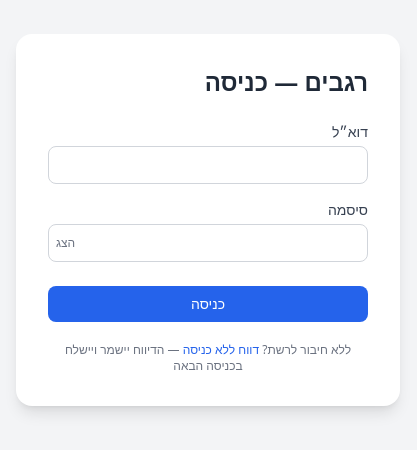
Test: LoginPage › shows error message on login failure
Type "a@b.com" into the field labelled "דוא״ל" at (208, 165), box [48,146,368,184]
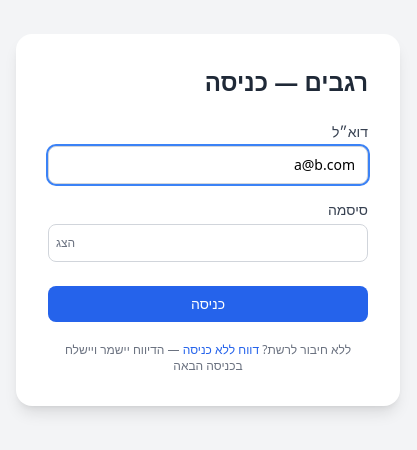
Type "wrong" into the password field labelled "סיסמה" at (208, 243), box [48,224,368,262]
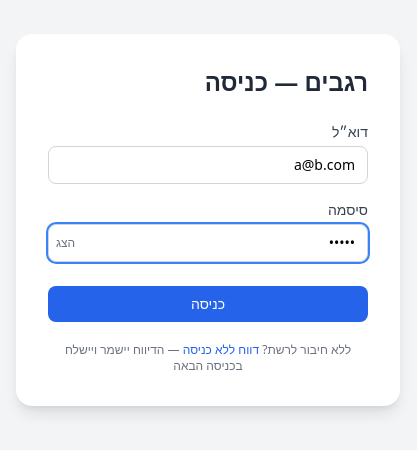
Click the button "כניסה" at (208, 304), box [48,286,368,322]
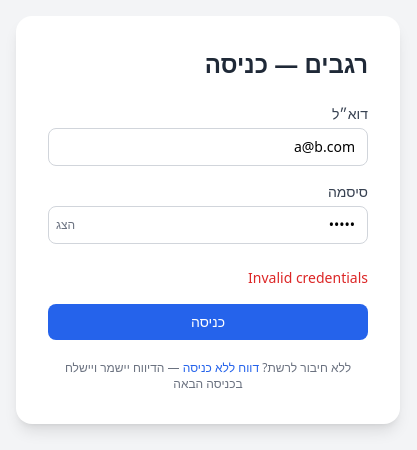
Now the message reads "Invalid credentials", box [248,268,368,287]
